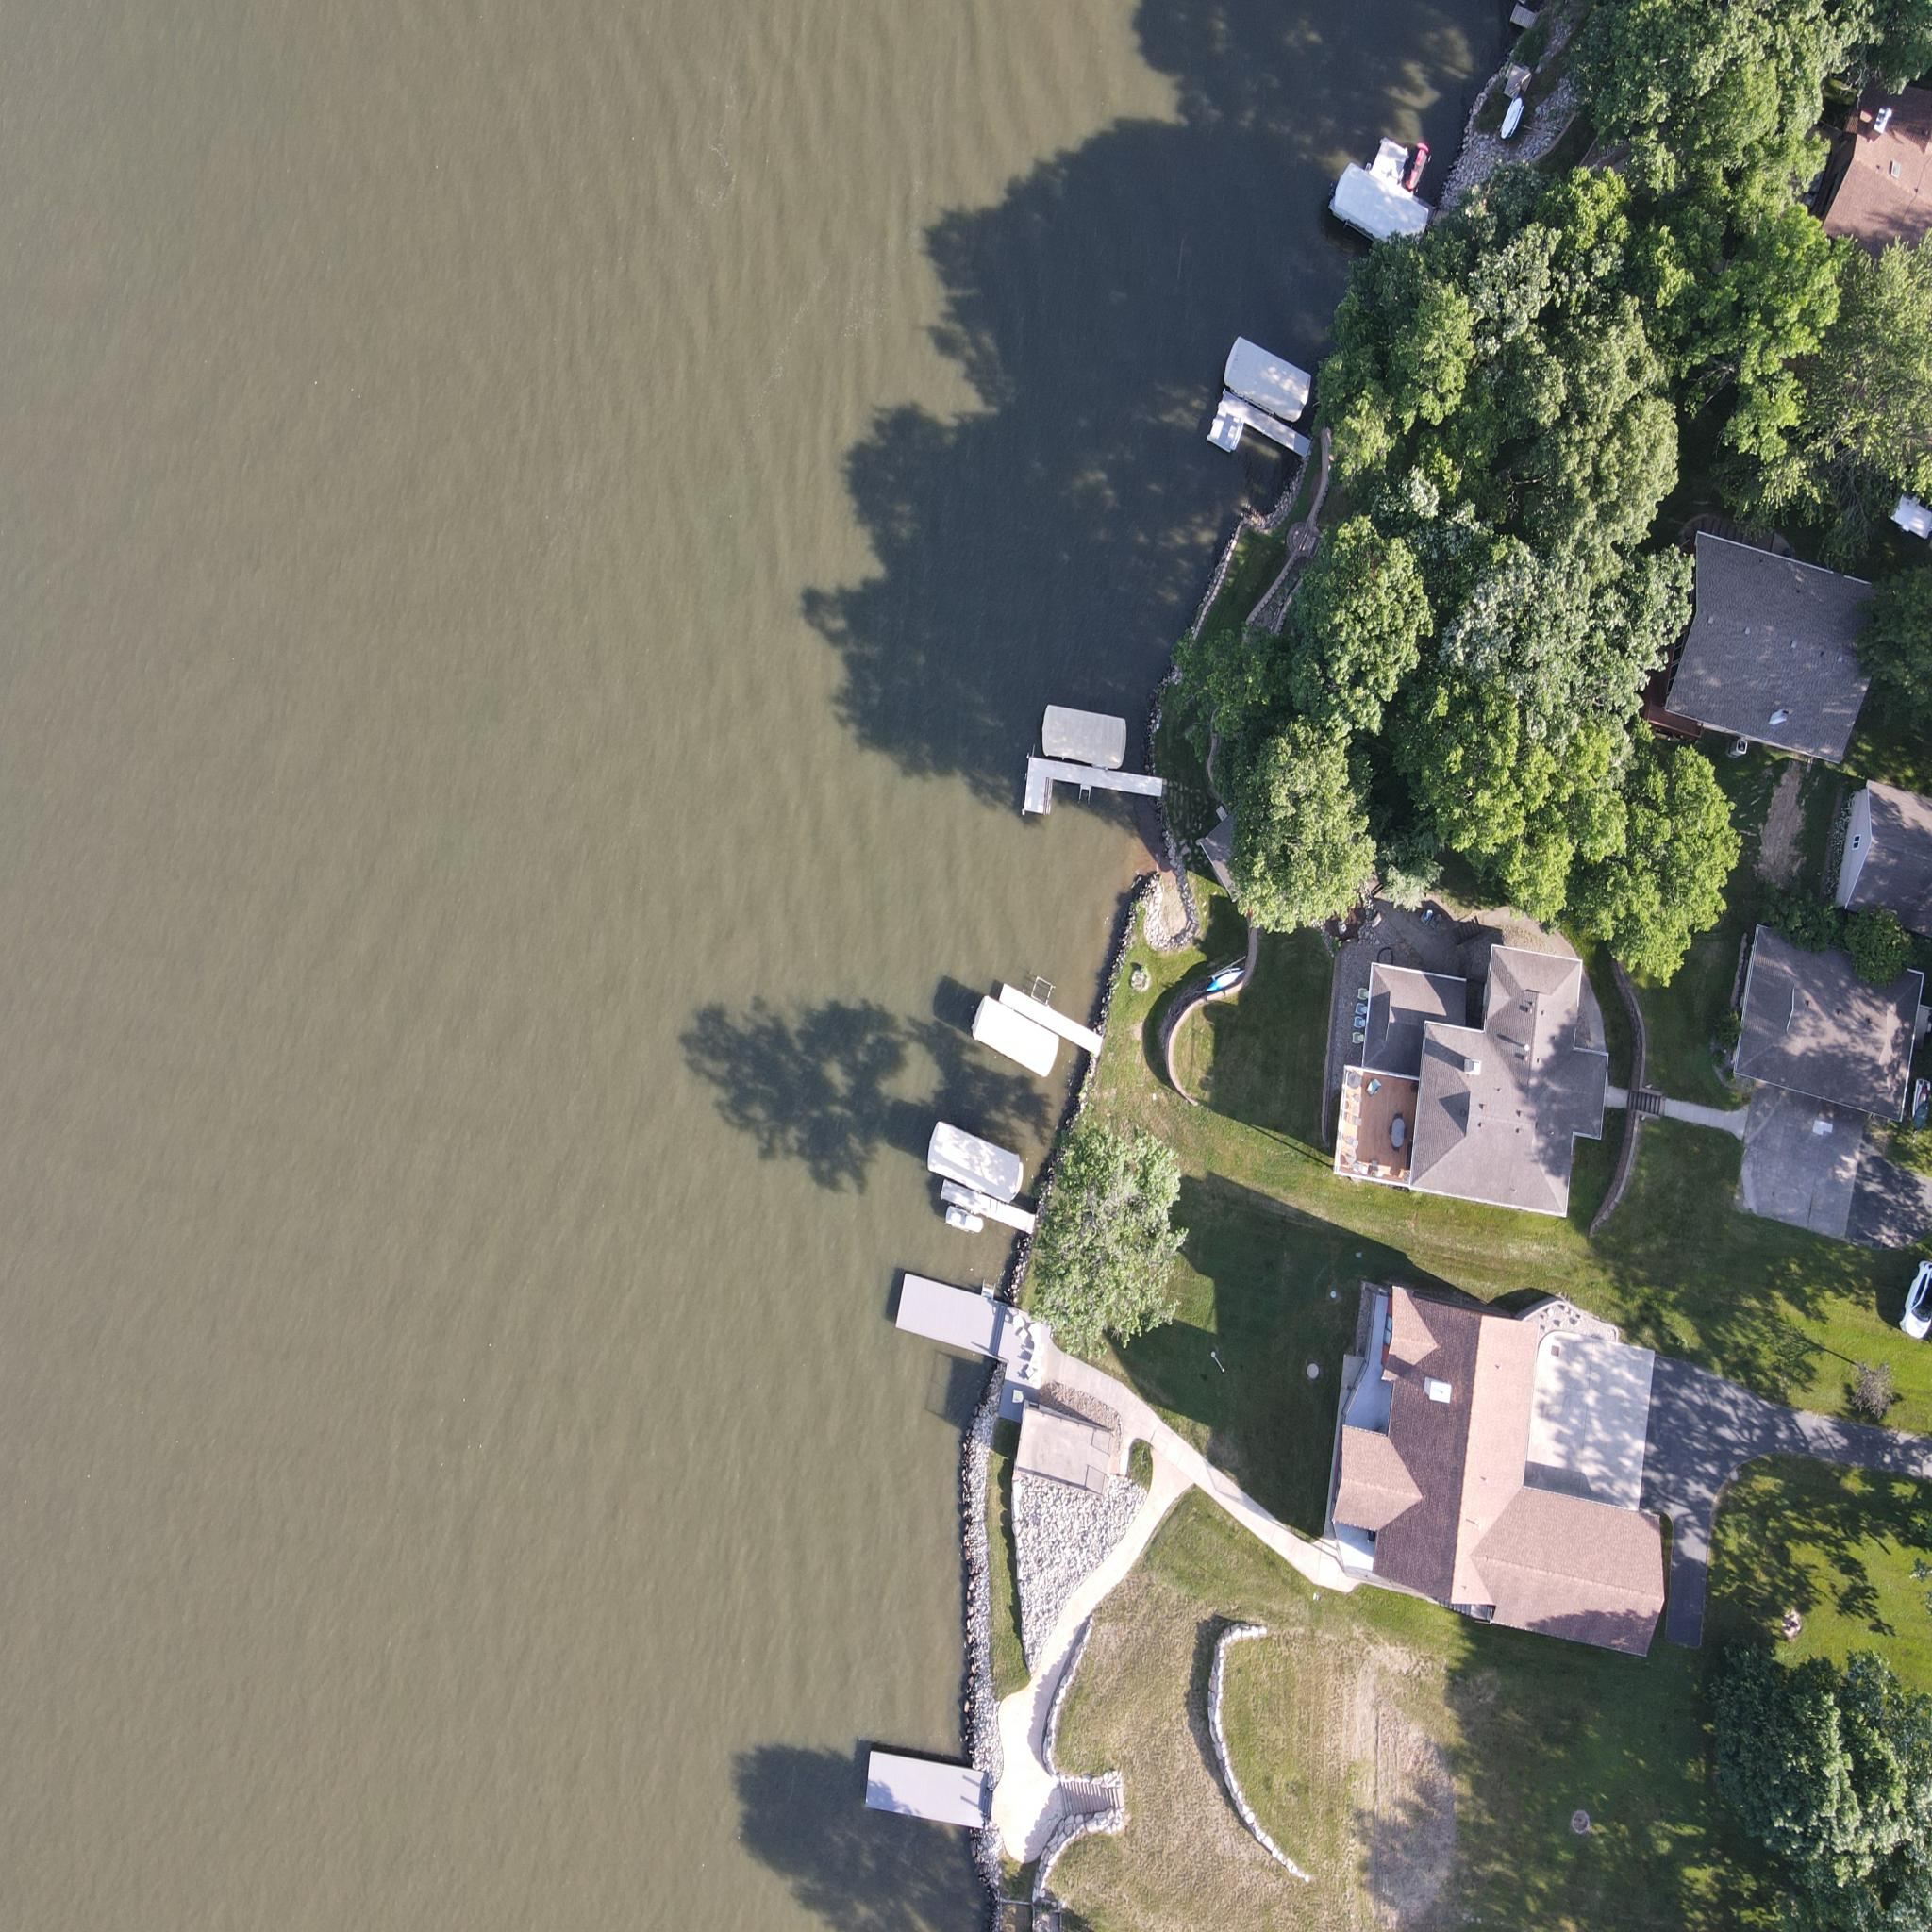car: (1895, 1251, 1932, 1357)
dock: (1024, 750, 1168, 835), (901, 1258, 1012, 1366), (994, 973, 1108, 1077), (1208, 372, 1307, 471), (867, 1753, 994, 1828), (1359, 136, 1440, 235), (941, 1169, 1035, 1240)
jetski: (1403, 138, 1435, 193), (941, 1203, 978, 1237)
lift: (1334, 166, 1437, 271), (925, 1109, 1026, 1201), (1226, 331, 1320, 423), (1040, 701, 1136, 784), (971, 1000, 1053, 1077)
